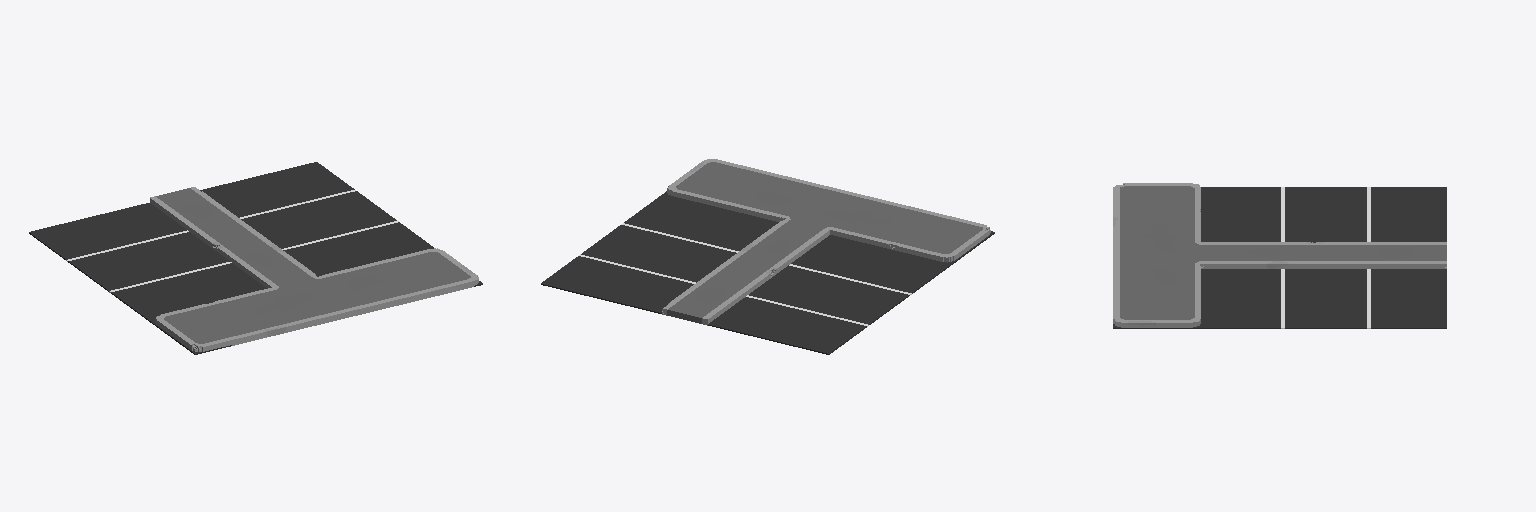
The picture shows the model from 3 angles: view 1: azimuth 30°, elevation 25°; view 2: azimuth 150°, elevation 25°; view 3: azimuth 270°, elevation 25°; orthographic projection.
Visible parts, largest first — view 1: object 1; view 2: object 1; view 3: object 1.
Boxes of the visible parts, <box> form: object 1: <box>29,162,482,354</box>; object 1: <box>541,159,994,354</box>; object 1: <box>1113,183,1446,328</box>.
Bounding box in the file's own units: 25 × 0.5 × 25.
Materials: 1 (1 with a texture image).